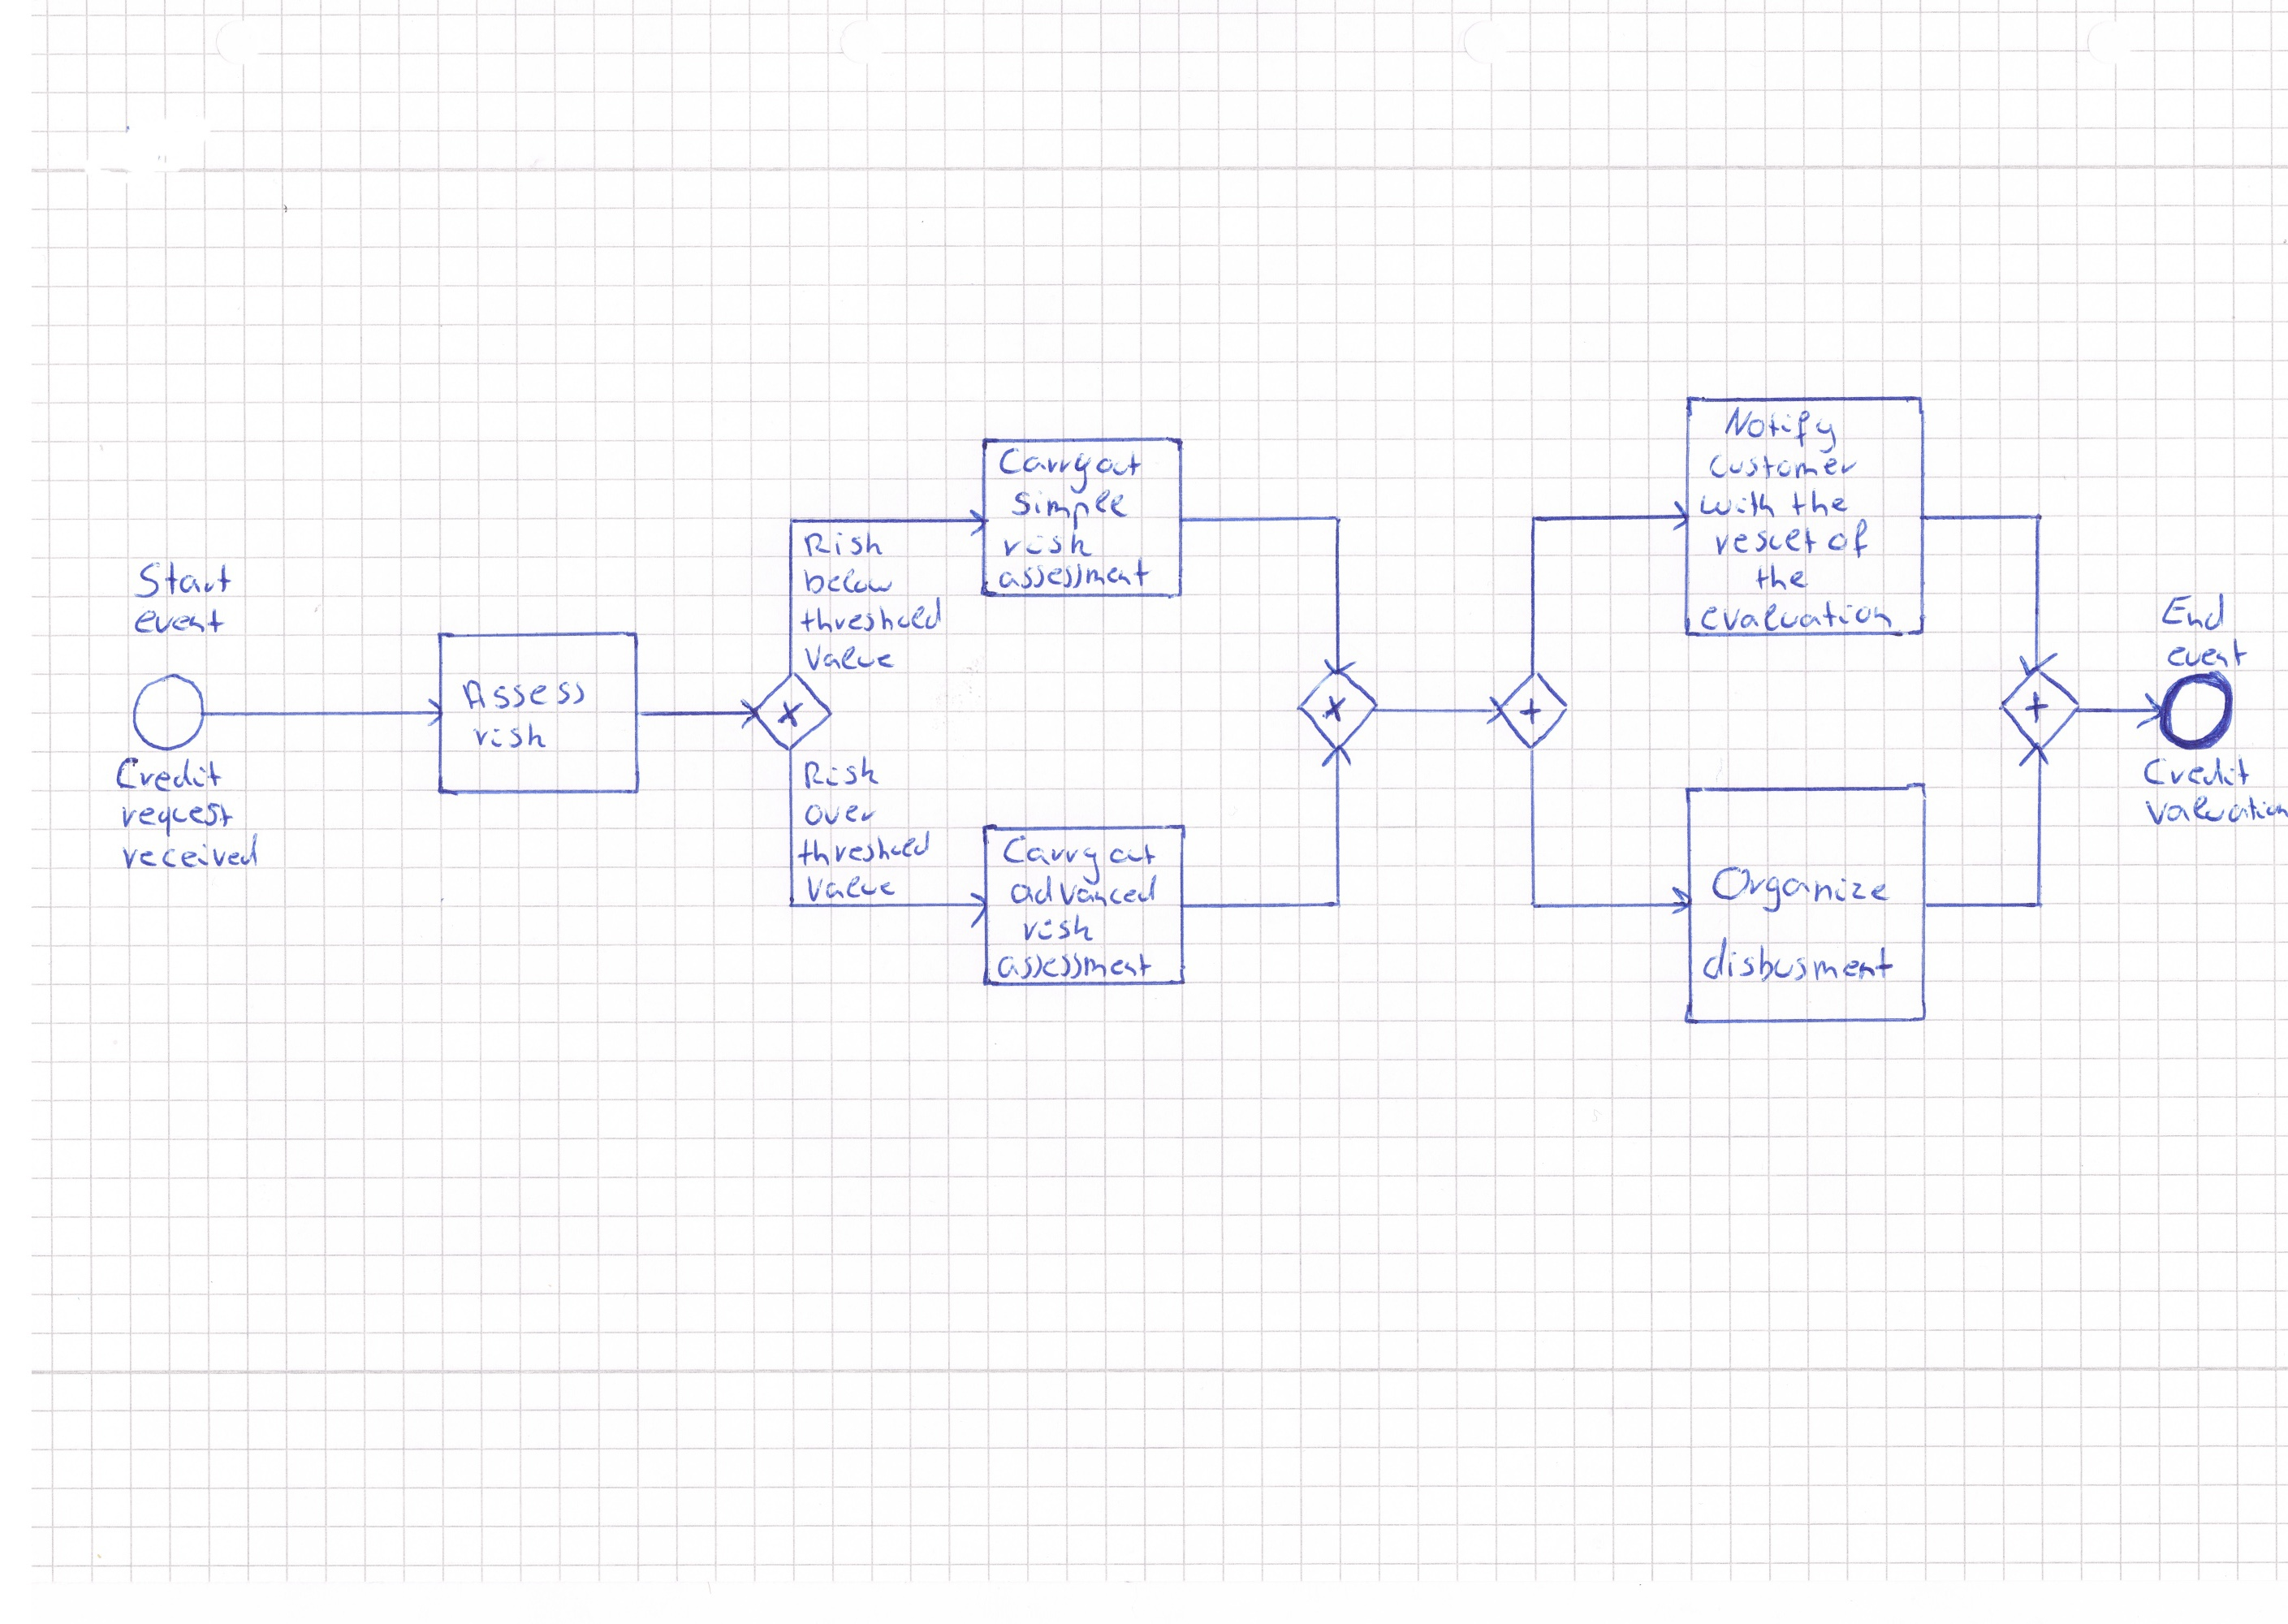Assess: (459, 675, 589, 714)
Carry: (1002, 833, 1102, 889), (998, 446, 1090, 494)
Credit: (112, 754, 225, 794), (2139, 756, 2255, 791)
End: (2158, 591, 2230, 633)
Notify: (1720, 406, 1840, 453)
Organize: (1708, 863, 1893, 914)
Risk: (801, 756, 880, 793), (801, 527, 882, 559)
Start: (132, 561, 232, 601)
Value: (803, 870, 898, 907), (801, 643, 900, 675)
advanced: (1007, 872, 1162, 910)
assessment: (995, 557, 1153, 591), (993, 951, 1151, 982)
below: (801, 566, 898, 599)
customer: (1710, 448, 1856, 483)
disbusment: (1699, 933, 1898, 984)
evaluation: (1698, 598, 1900, 634)
event: (132, 605, 227, 640), (2163, 636, 2249, 671)
of: (1826, 518, 1872, 559)
out: (1095, 446, 1144, 482), (1107, 840, 1160, 870)
over: (801, 800, 880, 830)
received: (119, 830, 264, 875)
request: (118, 800, 235, 840)
result: (1713, 524, 1821, 559)
risk: (1002, 529, 1095, 561), (471, 721, 547, 750), (1019, 914, 1095, 944)
simple: (1010, 489, 1130, 533)
the: (1752, 562, 1814, 592), (1791, 489, 1849, 518)
threshold: (794, 830, 935, 870), (798, 598, 951, 634)
valuation: (2142, 793, 2286, 828)
with: (1699, 490, 1777, 518)
